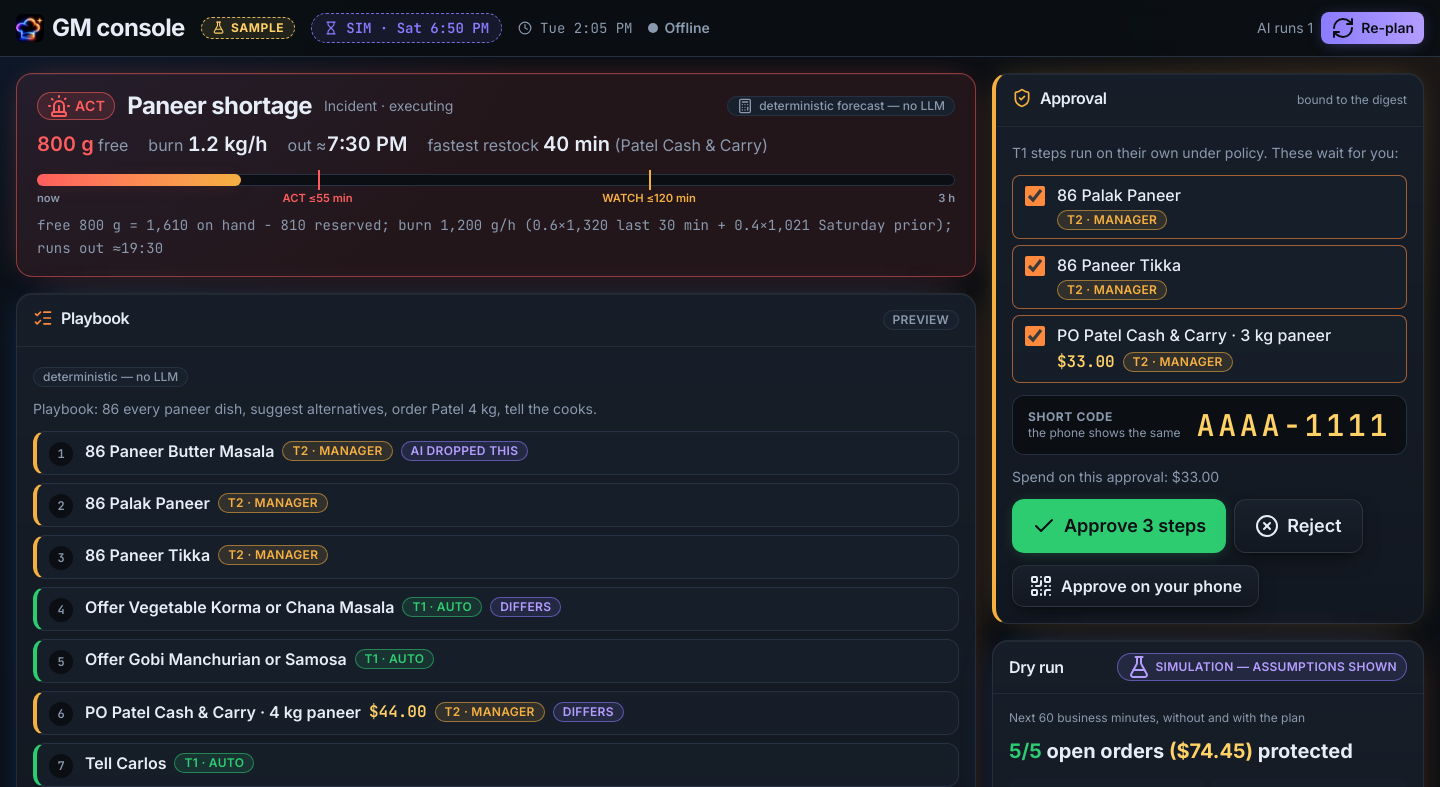
state_changed_offers_replan
Click the button "Approve 3 steps" at (1119, 526), box [1012,499,1226,553]
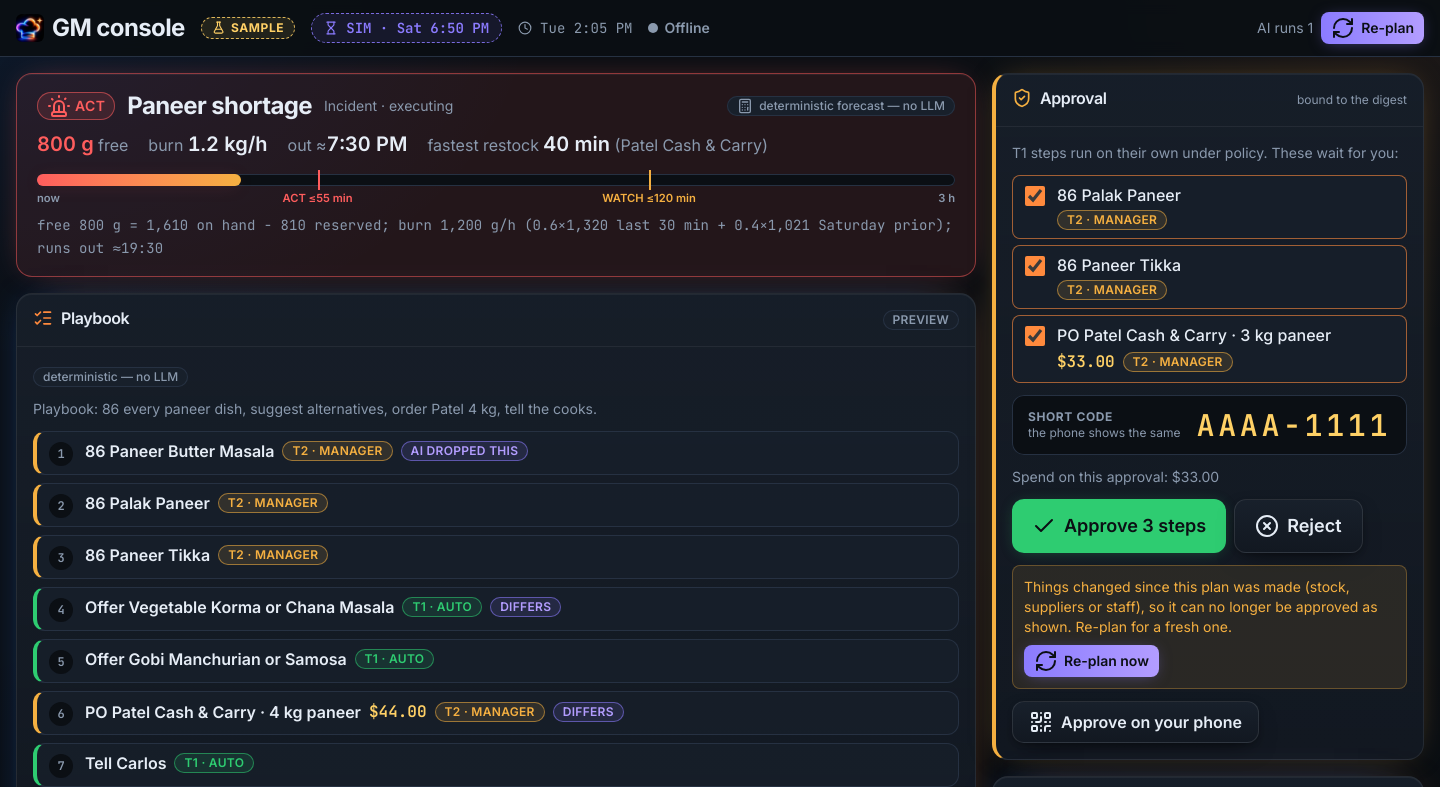
Expected: the message shows "Things changed since this plan was made", [1024,578,1378,635]
Click the button "Re-plan now" at (1091, 661), box [1024,645,1159,677]
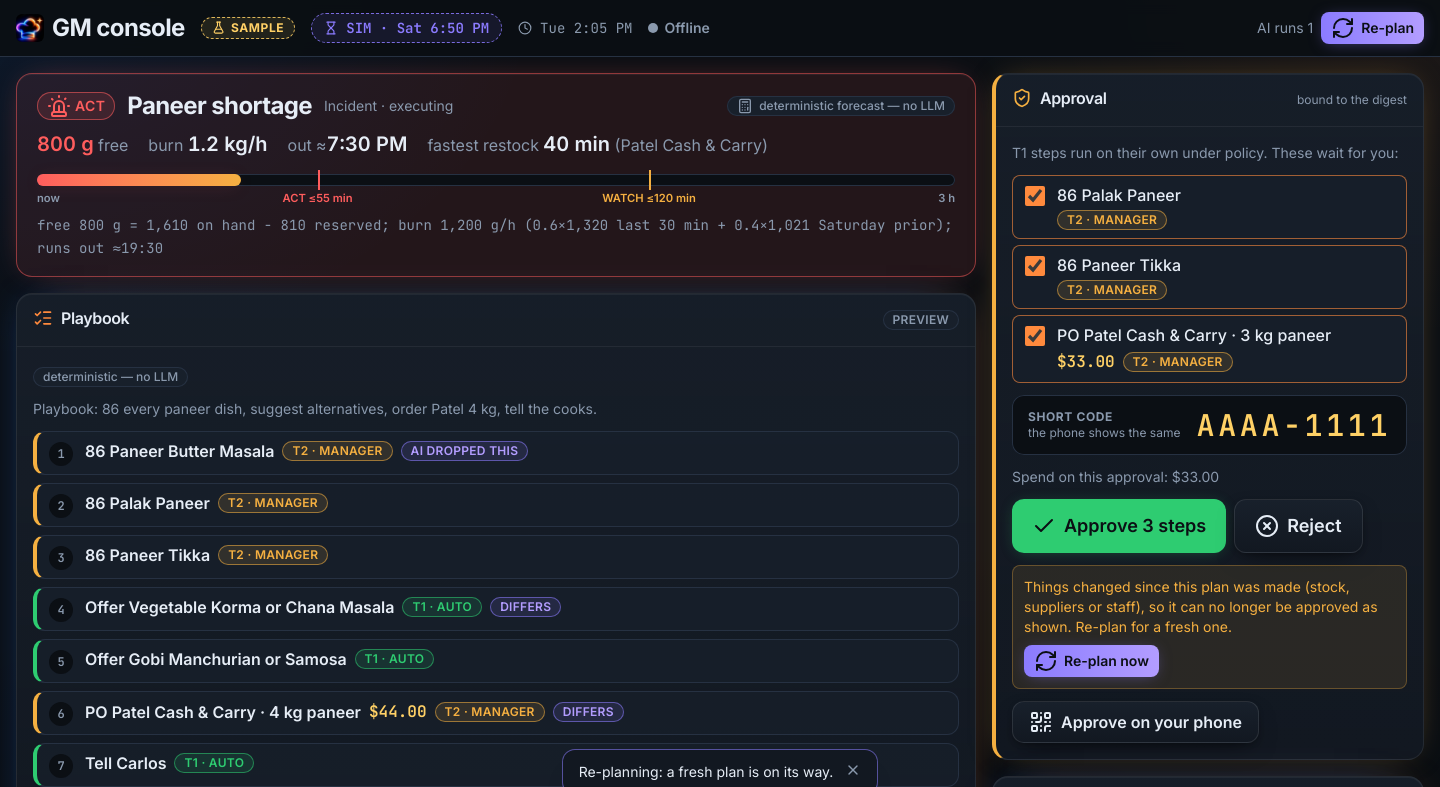
Expected: the text with test id "short-code" reads "AAAA-1111", [1197,405,1391,445]
Expected: the text "Re-planning: a fresh plan is on its way." is shown, [579,762,833,782]
